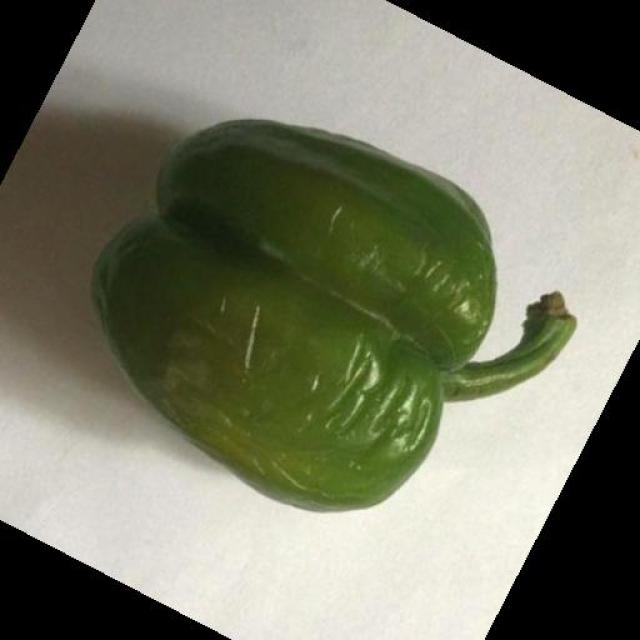Stale_Capsicum: (106, 104, 565, 492)
